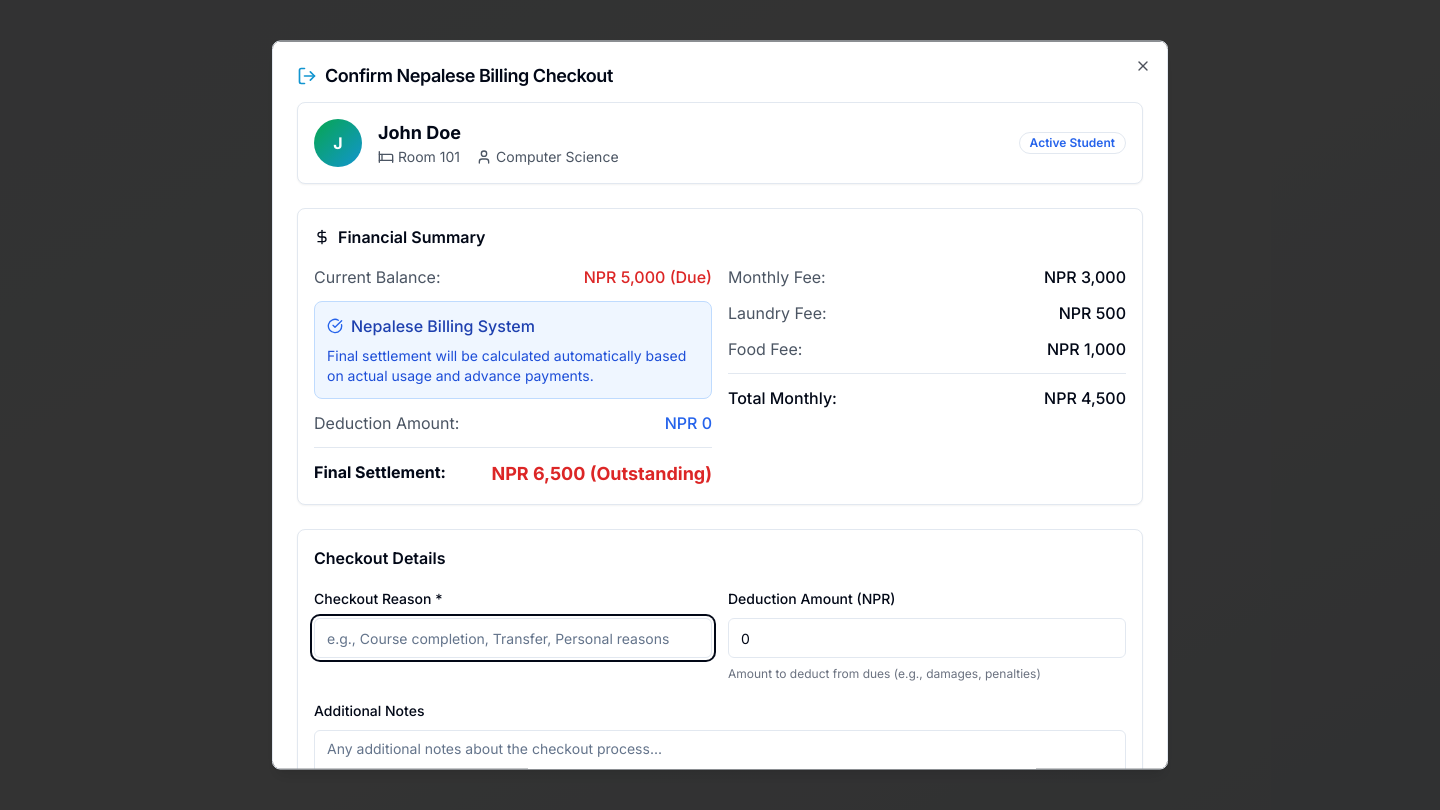
CheckoutConfirmationDialog › shows loading state when confirming
The width and height of the screenshot is (1440, 810).
Type "Course completion" into the field with placeholder "e.g., Course completion, Transfer, Personal reasons" at (513, 638), box 314,618 -> 712,658
(page scrolled)
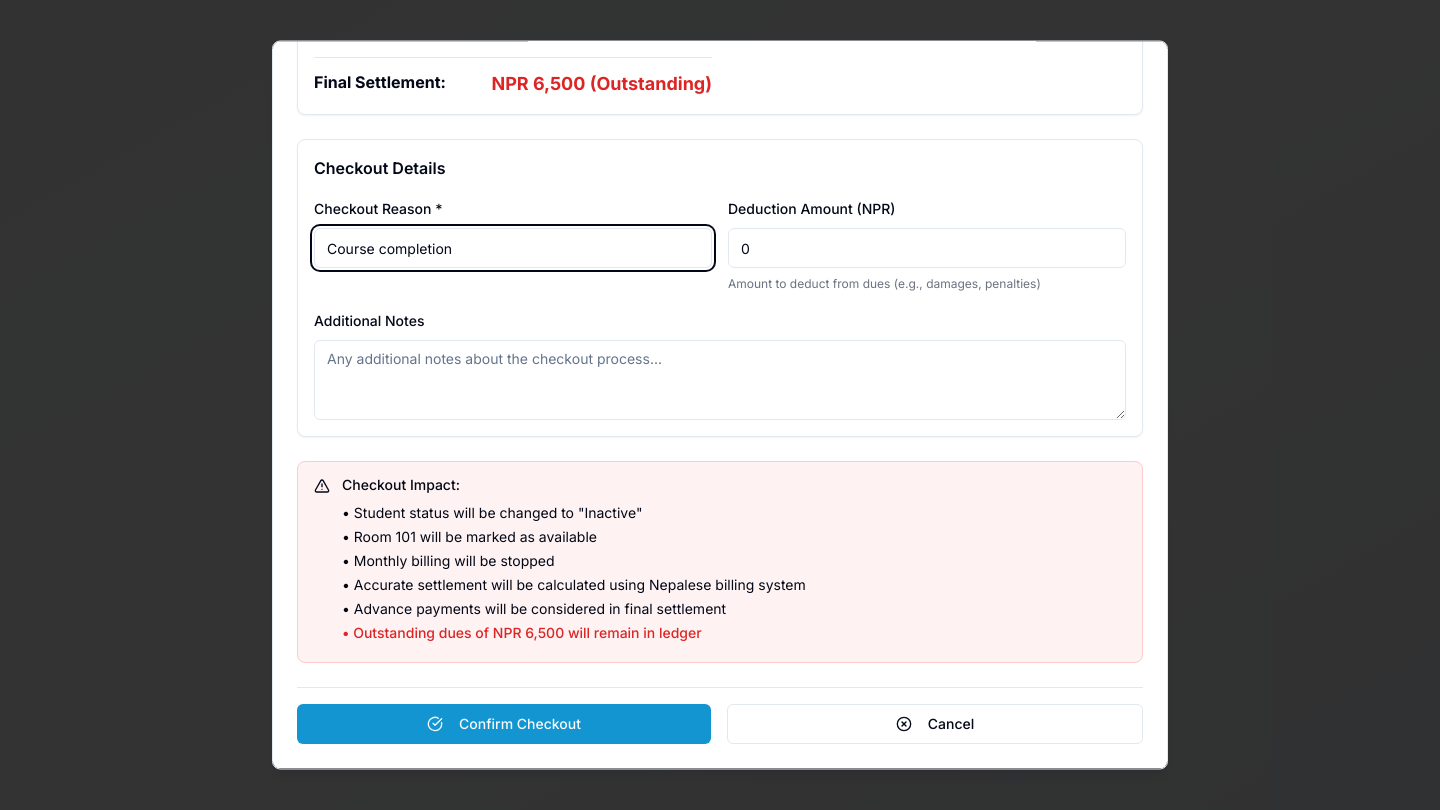
Click the button "Confirm Checkout" at (504, 724), box 297,704 -> 711,744
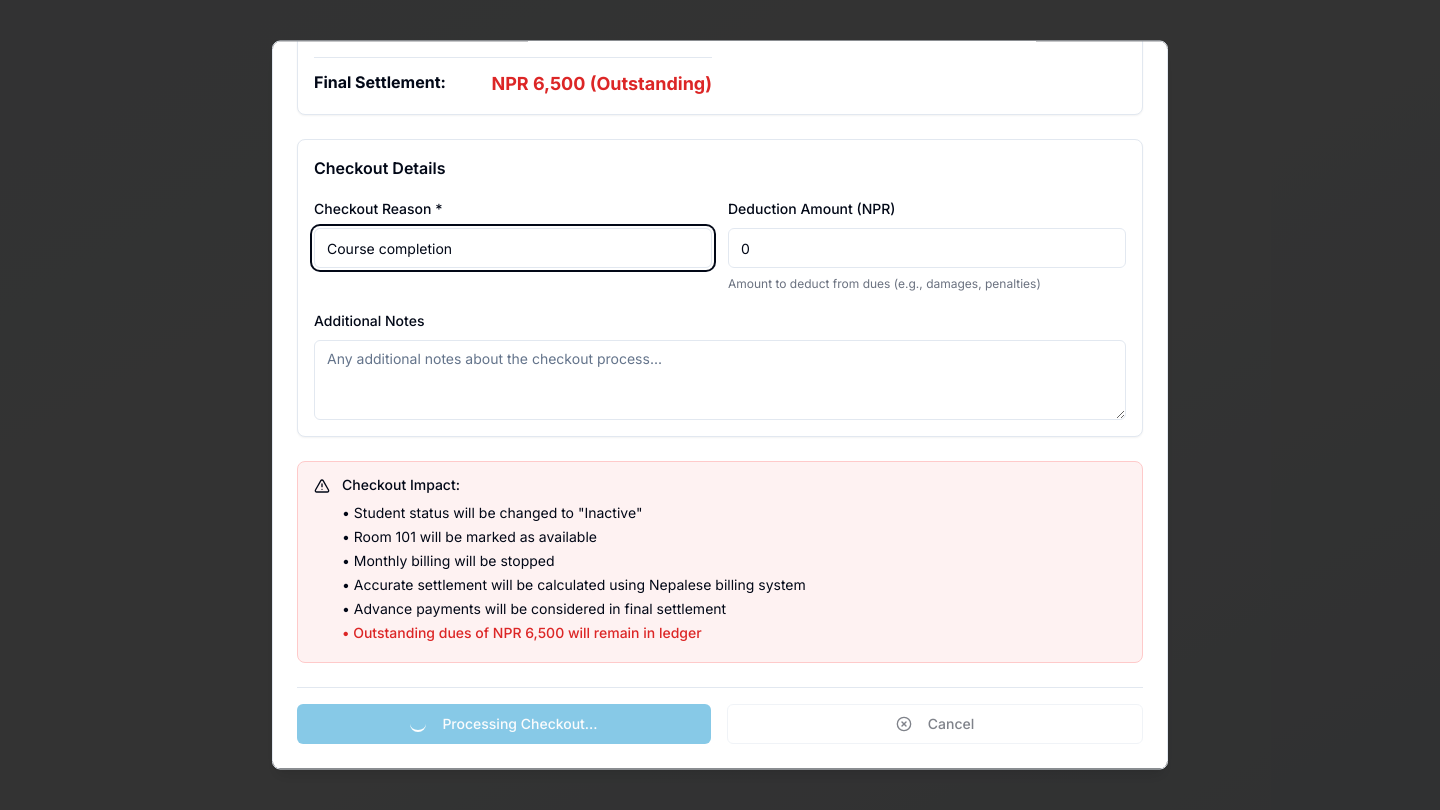
Expected: the button "Processing Checkout..." is shown, 297,704 -> 711,744
